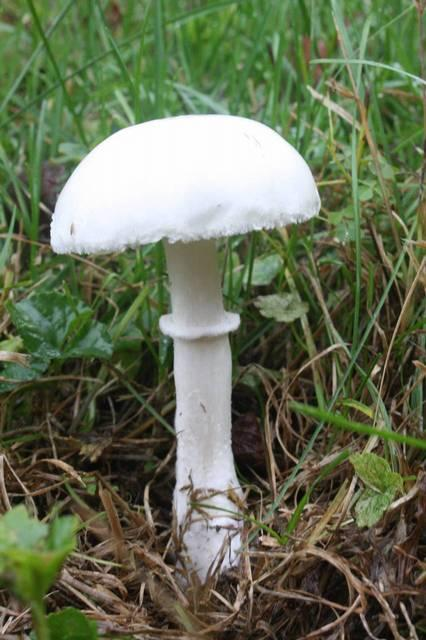poisonous_mushroom: (48, 112, 322, 589)
